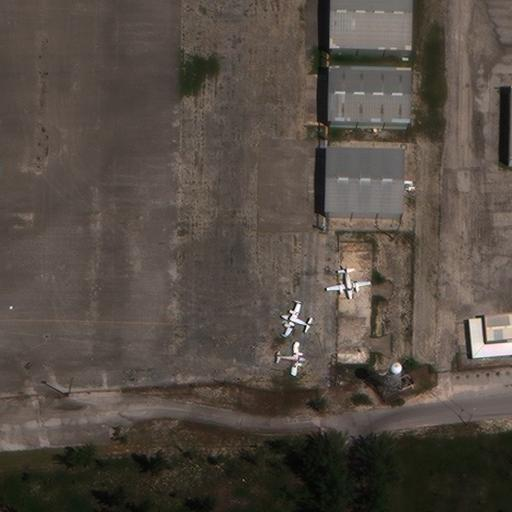Small Civil Transport: (326, 267, 371, 300), (279, 301, 312, 335), (273, 342, 306, 375)
